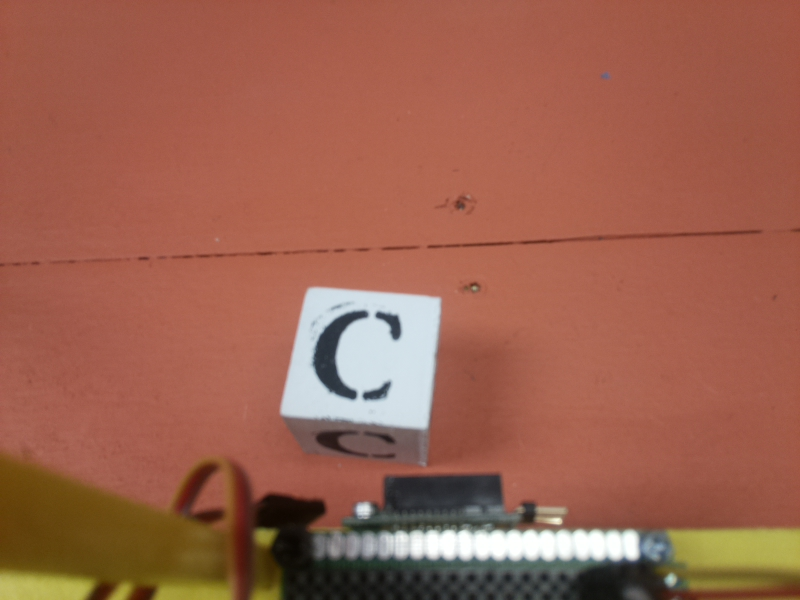blockC: (278, 283, 442, 478)
